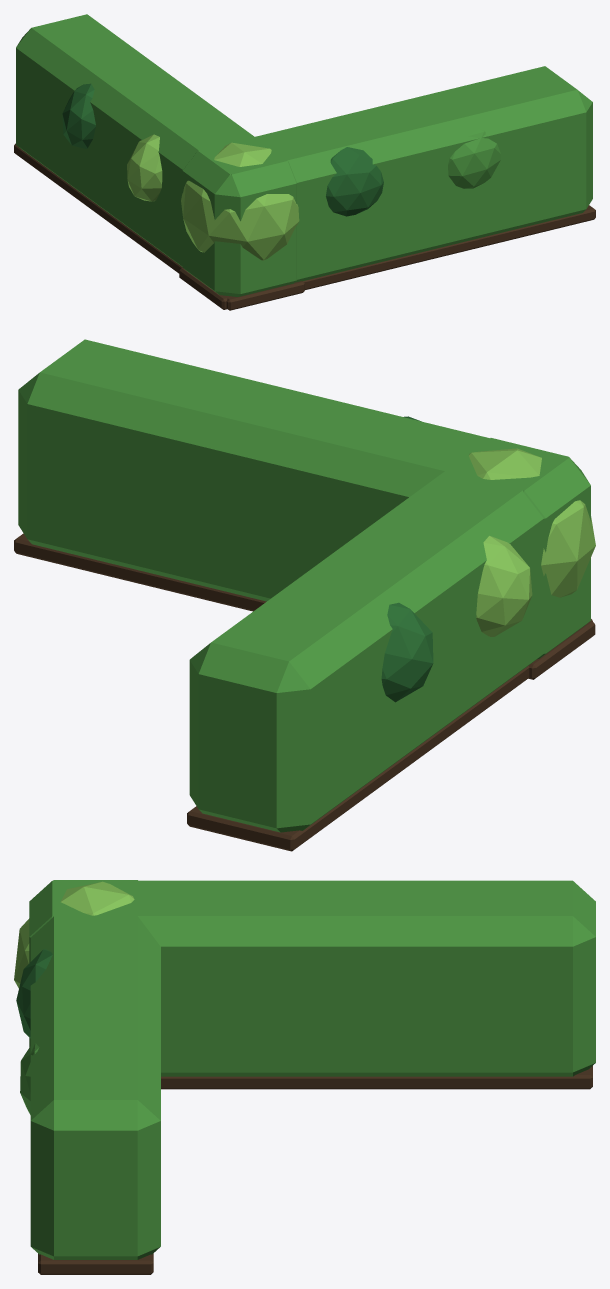
3 views of the same model, one above another, from view 1: azimuth 30°, elevation 25°; view 2: azimuth 150°, elevation 25°; view 3: azimuth 270°, elevation 25° (orthographic). The views are drawn at different scales.
Visible parts, largest first — view 1: WK_TownFlora_FormalHedgeCorner_LOD0_High; view 2: WK_TownFlora_FormalHedgeCorner_LOD0_High; view 3: WK_TownFlora_FormalHedgeCorner_LOD0_High.
Boxes of the visible parts, x1,y1,x2,y2 form: WK_TownFlora_FormalHedgeCorner_LOD0_High: (14, 14, 595, 310); WK_TownFlora_FormalHedgeCorner_LOD0_High: (14, 339, 595, 851); WK_TownFlora_FormalHedgeCorner_LOD0_High: (14, 880, 595, 1274).
Bounding box in the file's own units: 4.14 × 1.35 × 4.03.
